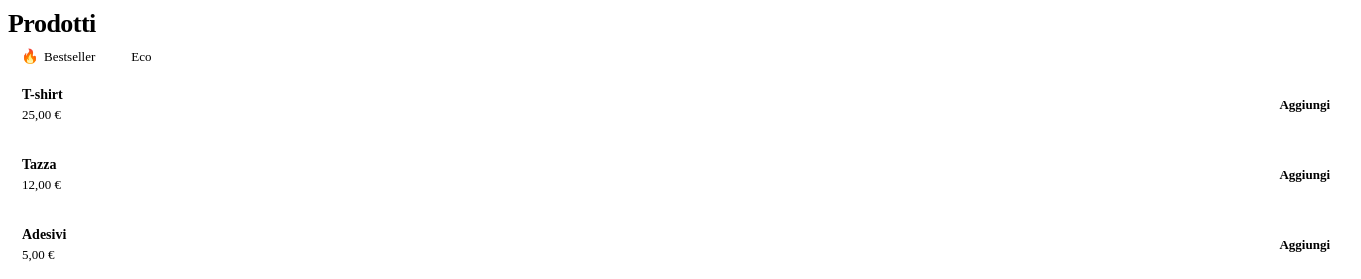
Test case: CatalogStepView: filters › activating a filter hides items without the matching tag, keeps the tagged one, and drops untagged items
Click the button "🔥 Bestseller" at (59, 57), box [8,39,109,75]
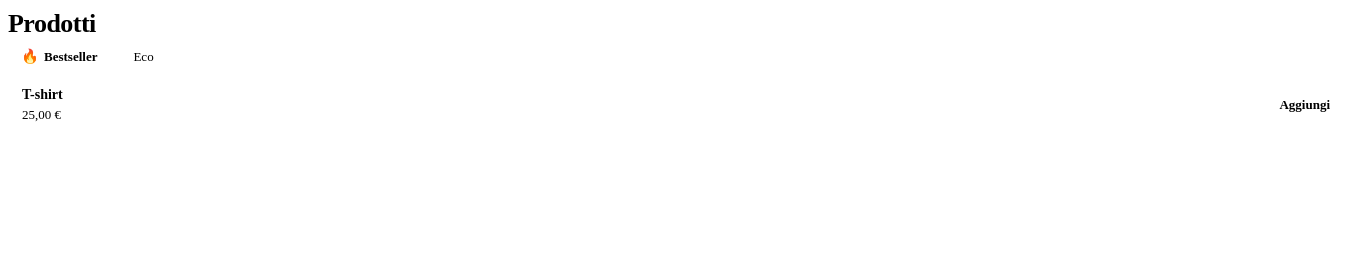
Expected: the list item with class "fk-catalog-item" shows "T-shirt", [22,87,63,102]
Expected: the number of list items with class "fk-catalog-item" is 1, [22,87,1344,122]
